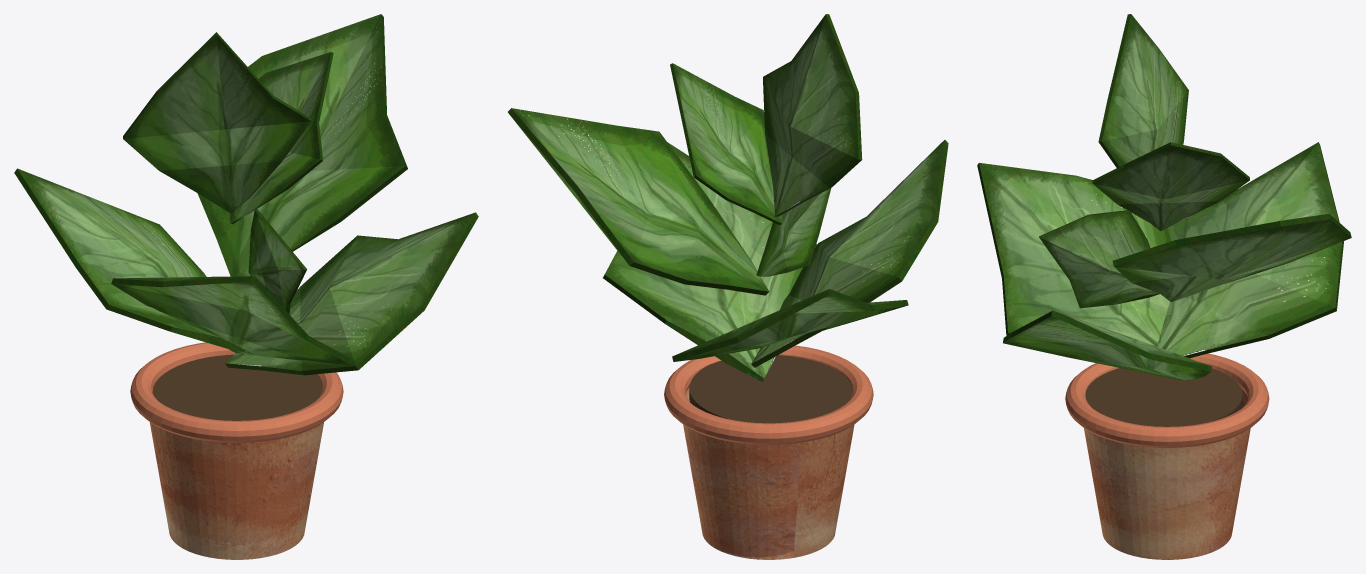
File: matera1-web.glb
3 views of the same model, side by side, from view 1: azimuth 30°, elevation 25°; view 2: azimuth 150°, elevation 25°; view 3: azimuth 270°, elevation 25° (orthographic). The views are drawn at different scales.
Parts seen in each view (by area): view 1: Matera_Tierra.001, hoja, hoja 2, hoja.003, hoja.002, hoja.005, hoja.001, hoja.004; view 2: Matera_Tierra.001, hoja, hoja 2, hoja.005, hoja.003, hoja.001, hoja.002, hoja.004; view 3: Matera_Tierra.001, hoja.002, hoja.005, hoja, hoja 2, hoja.001, hoja.004, hoja.003.
Part boxes in pixels (x1,y1,x2,y2): Matera_Tierra.001: (130, 342, 343, 559); hoja: (197, 14, 407, 276); hoja 2: (123, 32, 311, 213); hoja.003: (225, 212, 478, 375); hoja.002: (14, 168, 253, 354); hoja.005: (111, 276, 352, 364); hoja.001: (229, 52, 333, 224); hoja.004: (248, 209, 306, 314); Matera_Tierra.001: (664, 345, 873, 559); hoja: (508, 108, 769, 295); hoja 2: (763, 14, 862, 216); hoja.005: (751, 140, 948, 367); hoja.003: (603, 142, 817, 381); hoja.001: (670, 63, 782, 224); hoja.002: (672, 289, 908, 361); hoja.004: (756, 188, 831, 276); Matera_Tierra.001: (1065, 353, 1269, 559); hoja.002: (1157, 142, 1343, 358); hoja.005: (977, 162, 1171, 354); hoja: (1112, 213, 1351, 301); hoja 2: (1098, 14, 1188, 167); hoja.001: (1092, 142, 1249, 230); hoja.004: (1039, 210, 1159, 308); hoja.003: (1003, 310, 1211, 380).
Bounding box in the file's own units: 2.42 × 3.46 × 2.35.
4 materials, 2 textured.
